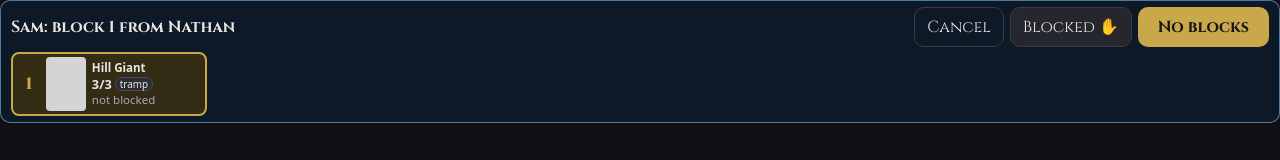
Test: blockers › the next defender gets the bar after the first: each in turn
The width and height of the screenshot is (1280, 160).
Step 1. Click the button "No blocks" → coordinates (1203, 27), box [1138, 7, 1269, 47]
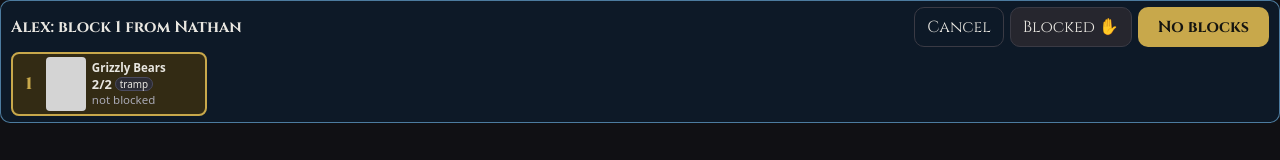
Expected: the number of buttons with class "strip-tile" is 1, [11, 52, 207, 116]
Expected: the text with class "combat-say" reads "Alex: block 1 from Nathan", [11, 16, 242, 38]
